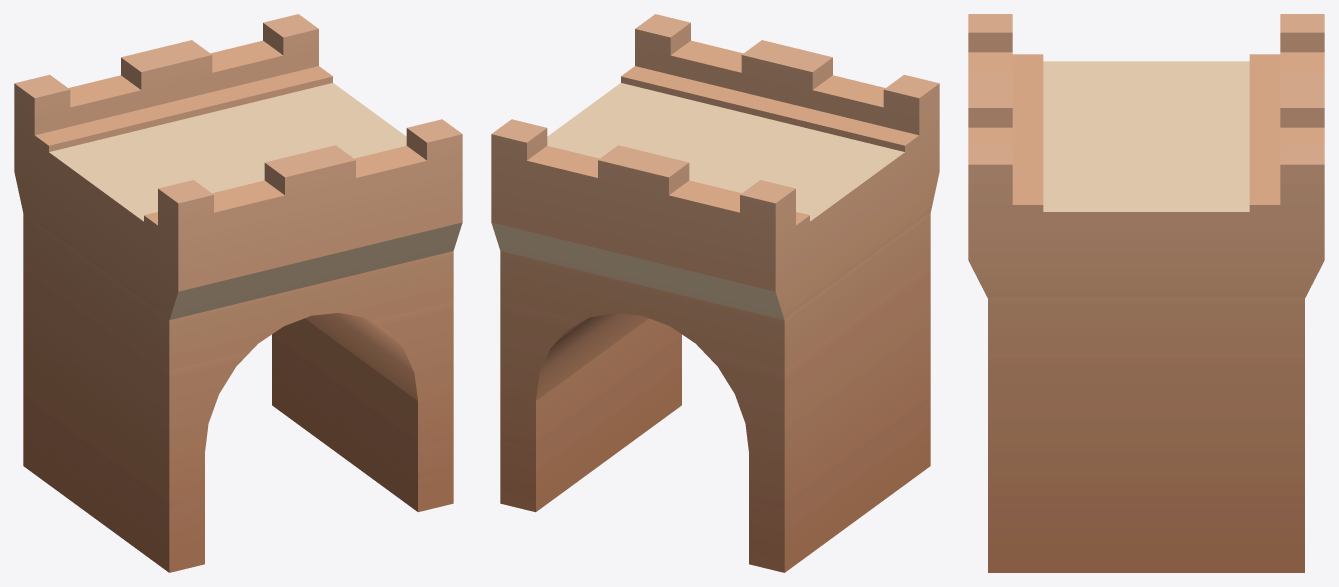
Rendered from bridge-straight.glb.
3 views of the same model, side by side, from view 1: azimuth 30°, elevation 25°; view 2: azimuth 150°, elevation 25°; view 3: azimuth 270°, elevation 25° (orthographic). The views are drawn at different scales.
Visible parts, largest first — view 1: bridge-straight; view 2: bridge-straight; view 3: bridge-straight.
Part boxes in pixels (x1,y1,x2,y2): bridge-straight: (14, 14, 462, 572); bridge-straight: (491, 14, 939, 572); bridge-straight: (968, 14, 1324, 572).
Size of the model in its own units: 0.9301 by 1.18 by 0.9301.
1 material, 1 textured.
